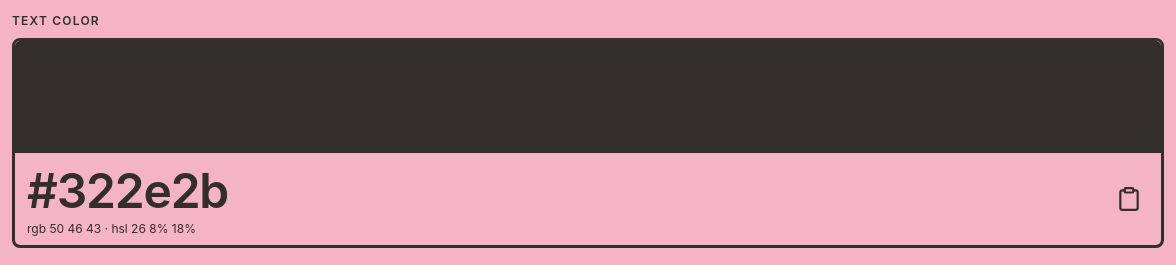
Test: ColorField › drops an unfinished draft on blur
Replace the text in the field labelled "text color" with "#ff": (562, 191) x1=27 y1=161 x2=1097 y2=221
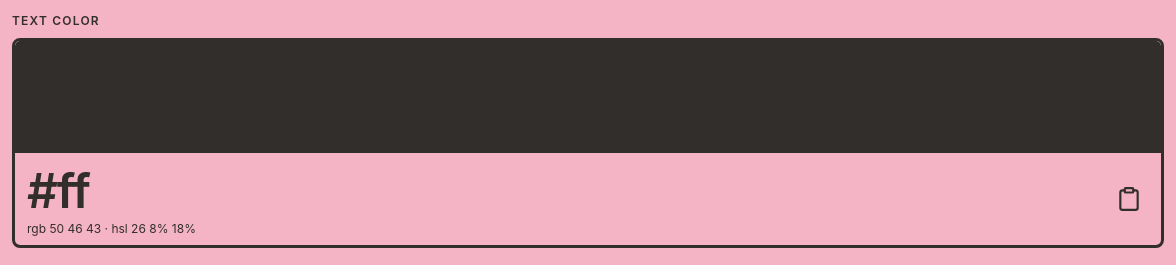
Leave the field labelled "text color", box x1=27 y1=161 x2=1097 y2=221
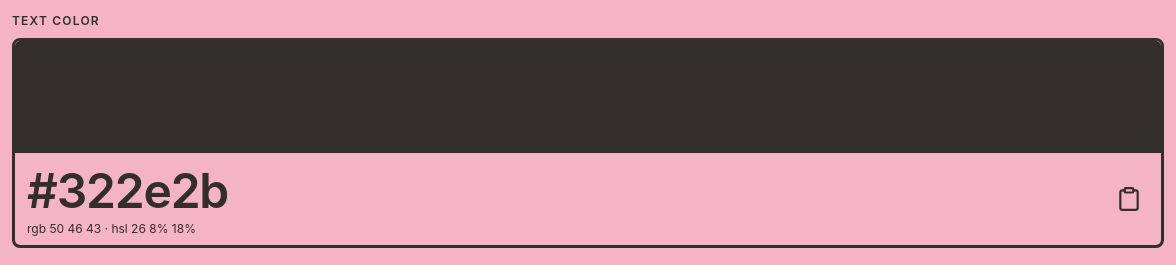
Now the field labelled "text color" holds "#322e2b", box x1=27 y1=161 x2=1097 y2=221
